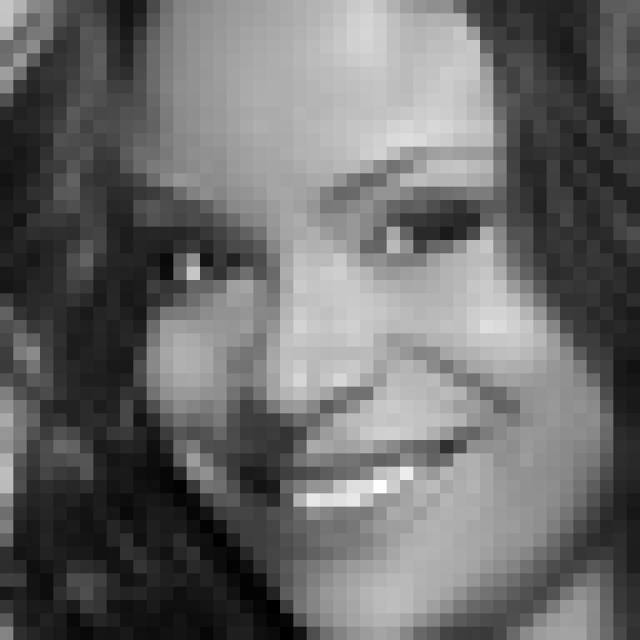happy: (138, 142, 515, 564)
